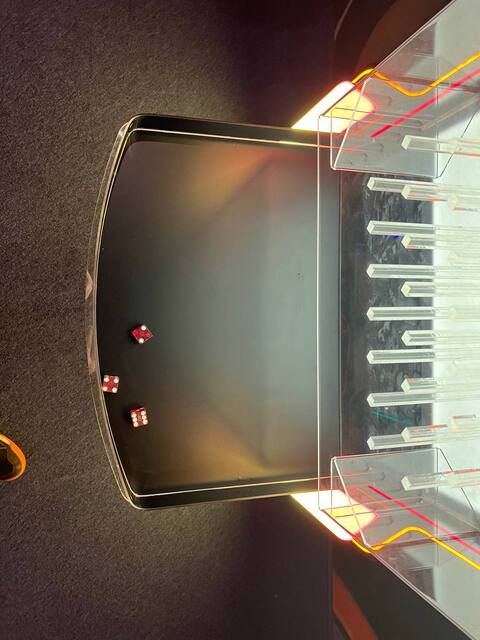four: (100, 373, 120, 395)
six: (128, 407, 150, 429)
two: (130, 323, 154, 346)
